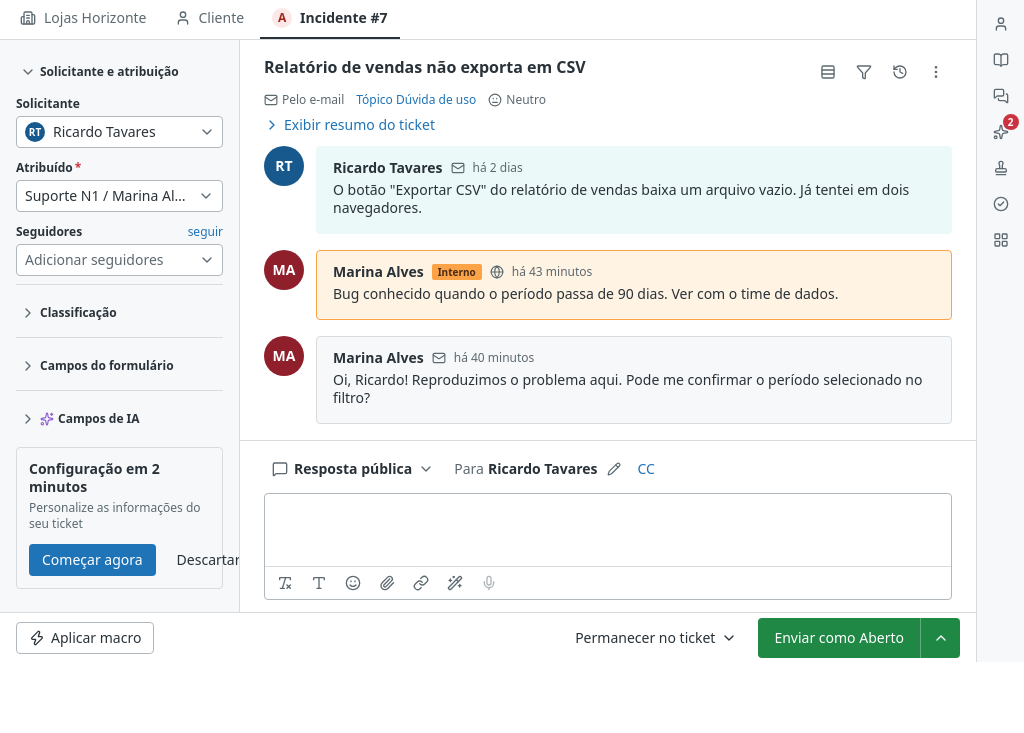
Test case: tela do ticket abaixo de 1024 px › as propriedades viram acordeão: só o primeiro grupo abre
Check: the button "Enviar como Aberto" is shown, box [758,618,920,658]
Click the button "Classificação" at (120, 313), box [16,297,223,329]
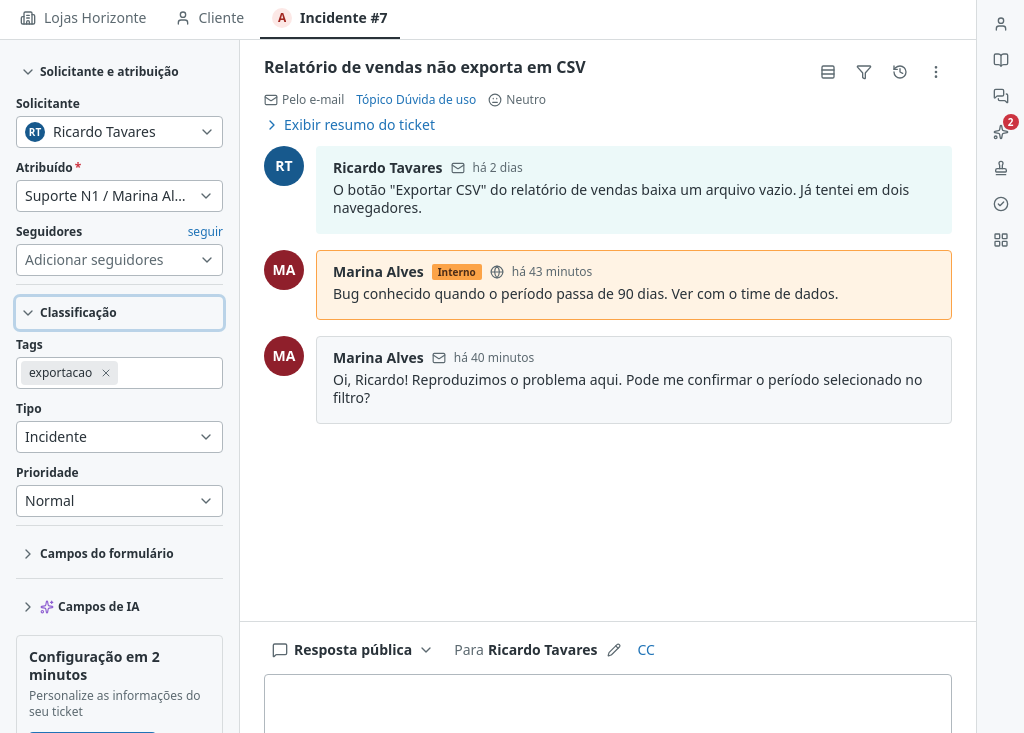
Check: the button "Classificação" is expanded, box [16,297,223,329]
Click the button "Solicitante e atribuição" at (120, 72), box [16,56,223,88]
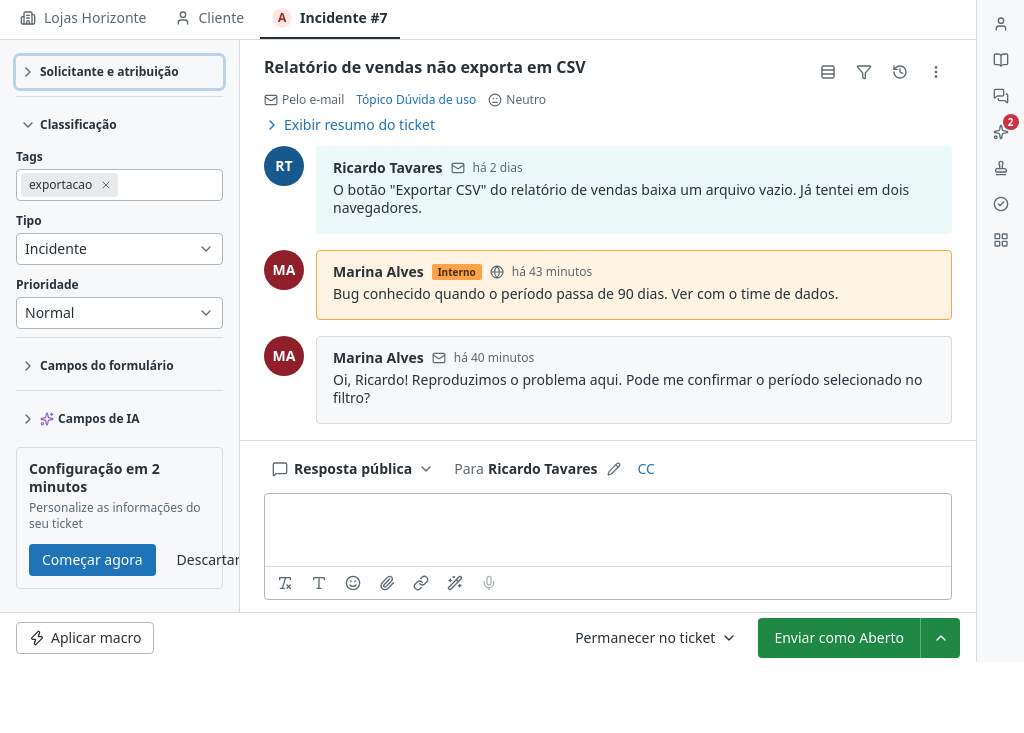
Check: the button "Solicitante e atribuição" is collapsed, box [16,56,223,88]
